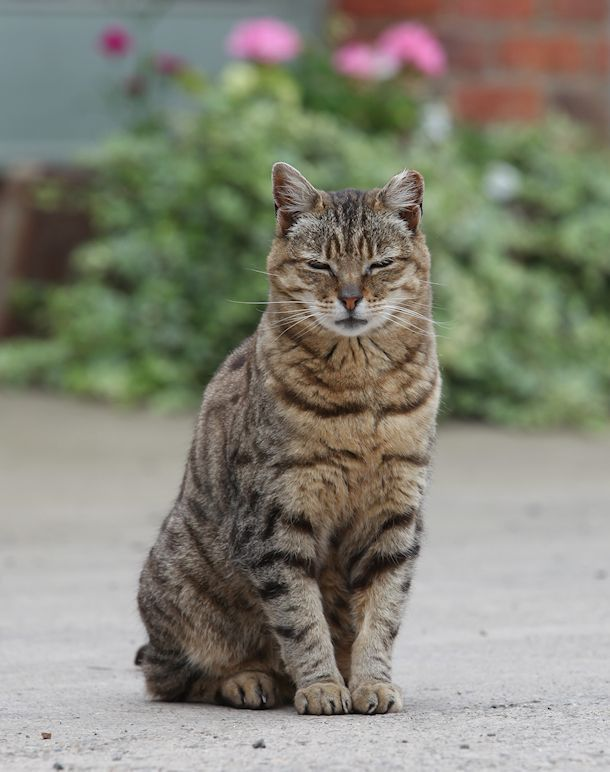cat: (138, 162, 441, 716)
